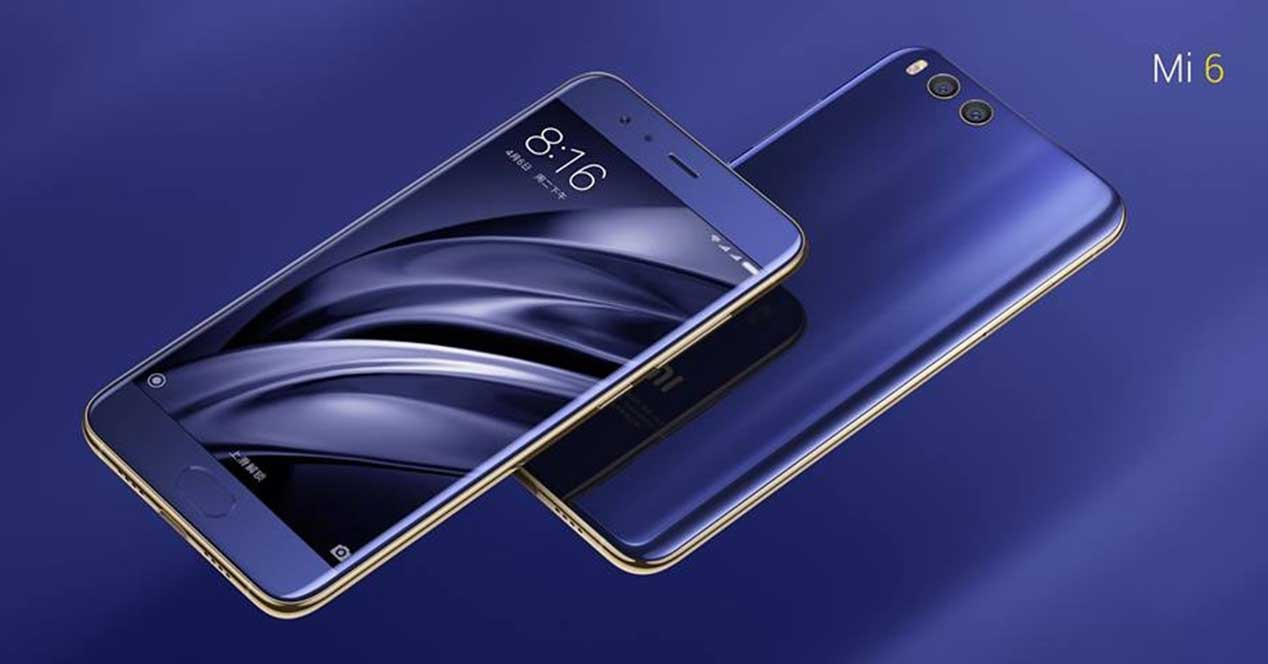smartphone: (81, 72, 809, 618), (514, 46, 1126, 576)
